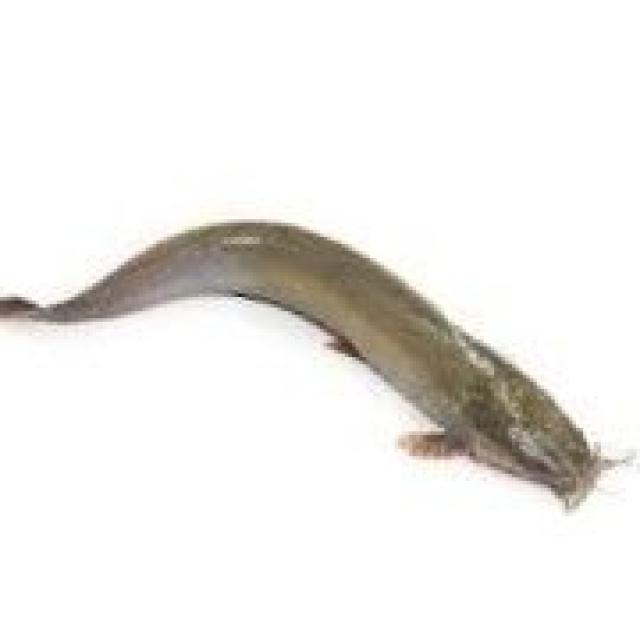Catfish: (2, 175, 640, 568)
